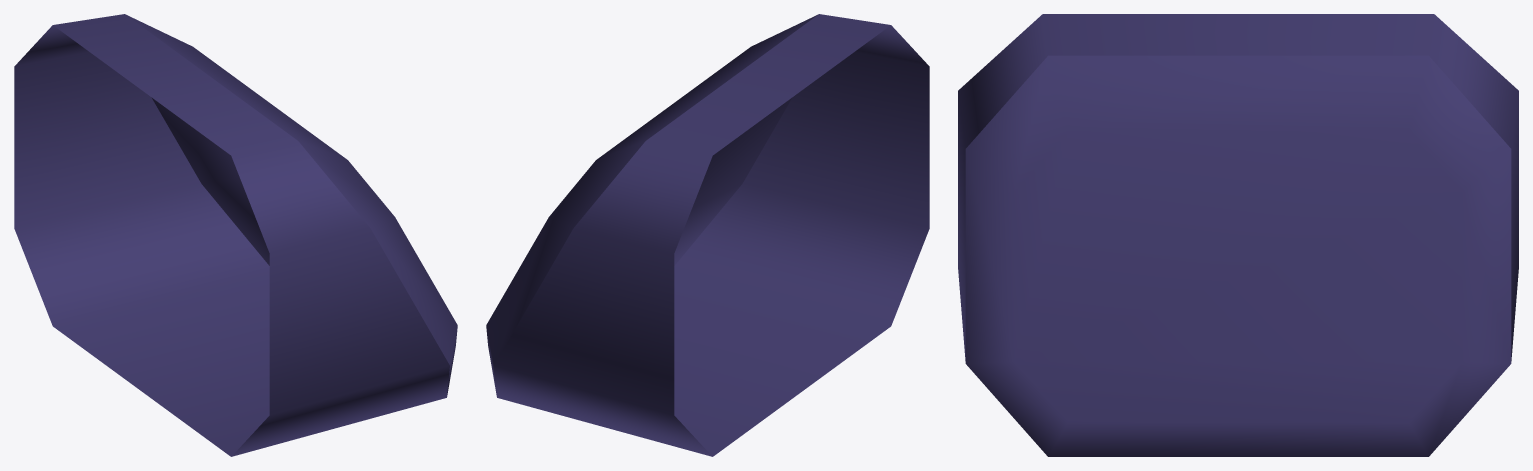
Rendered from Sight_01_Glass.fbx.
3 renders of one model, left to right at view 1: azimuth 30°, elevation 25°; view 2: azimuth 150°, elevation 25°; view 3: azimuth 270°, elevation 25°, orthographic. The views are drawn at different scales.
Parts seen in each view (by area): view 1: Sight_01_Glass; view 2: Sight_01_Glass; view 3: Sight_01_Glass.
Boxes of the visible parts, <box> form: Sight_01_Glass: <box>14,14,457,456</box>; Sight_01_Glass: <box>486,14,929,456</box>; Sight_01_Glass: <box>958,14,1518,456</box>.
Size of the model in its own units: 0.8302 by 1.01 by 1.56.
